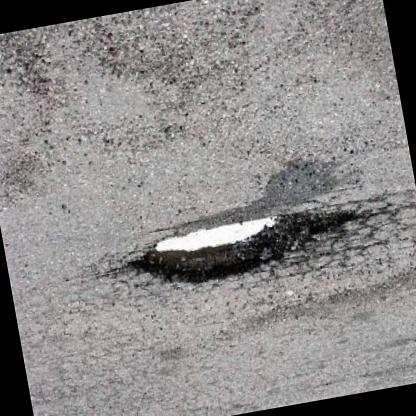pothole: (126, 196, 368, 302)
